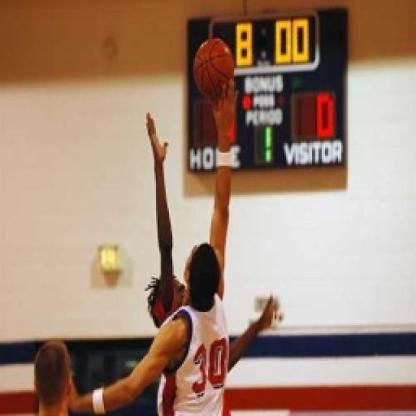basketball: (190, 33, 236, 100)
